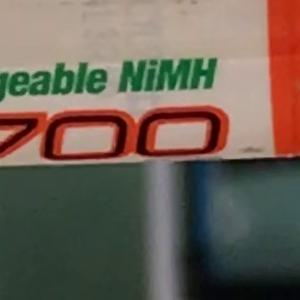NIMH: (108, 48, 227, 102)
